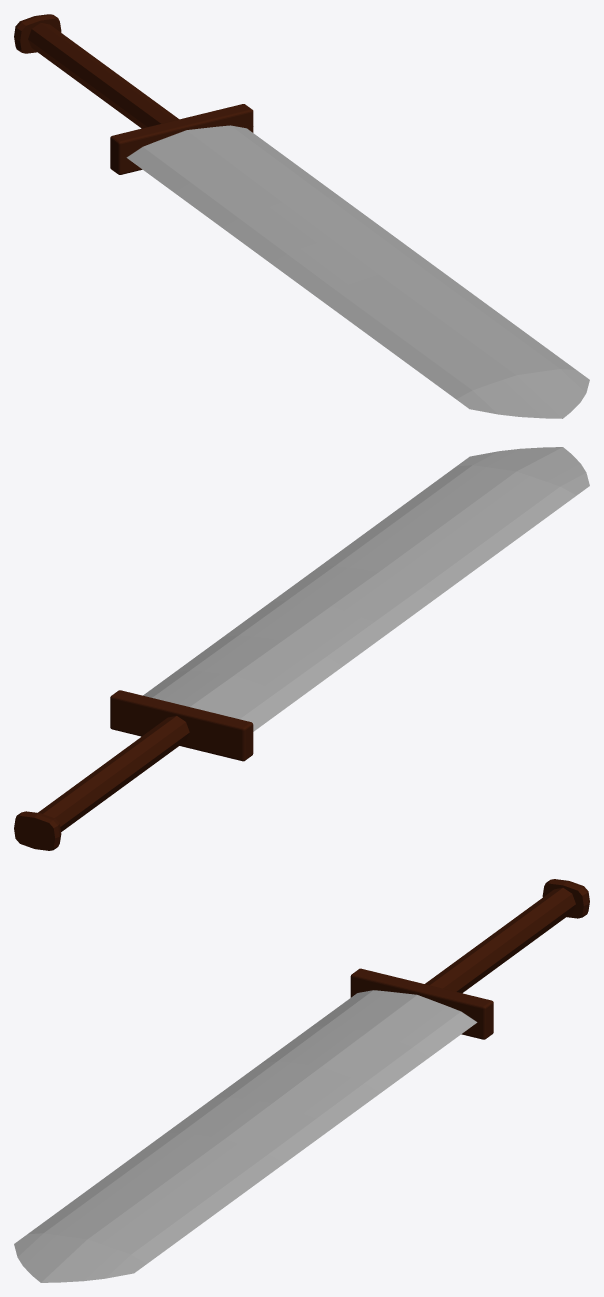
The model's file is Espada de ferro.fbx.
3 renders of one model, top to bottom at view 1: azimuth 30°, elevation 25°; view 2: azimuth 150°, elevation 25°; view 3: azimuth 330°, elevation 25°, orthographic.
Parts seen in each view (by area): view 1: Espada de ferro; view 2: Espada de ferro; view 3: Espada de ferro.
Boxes of the visible parts, <box> form: Espada de ferro: <box>14,14,589,418</box>; Espada de ferro: <box>14,447,589,850</box>; Espada de ferro: <box>14,879,589,1282</box>.
Bounding box in the file's own units: 0.1471 × 0.0352 × 0.9954.
